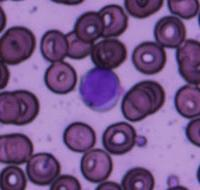L: (78, 68, 122, 112)
